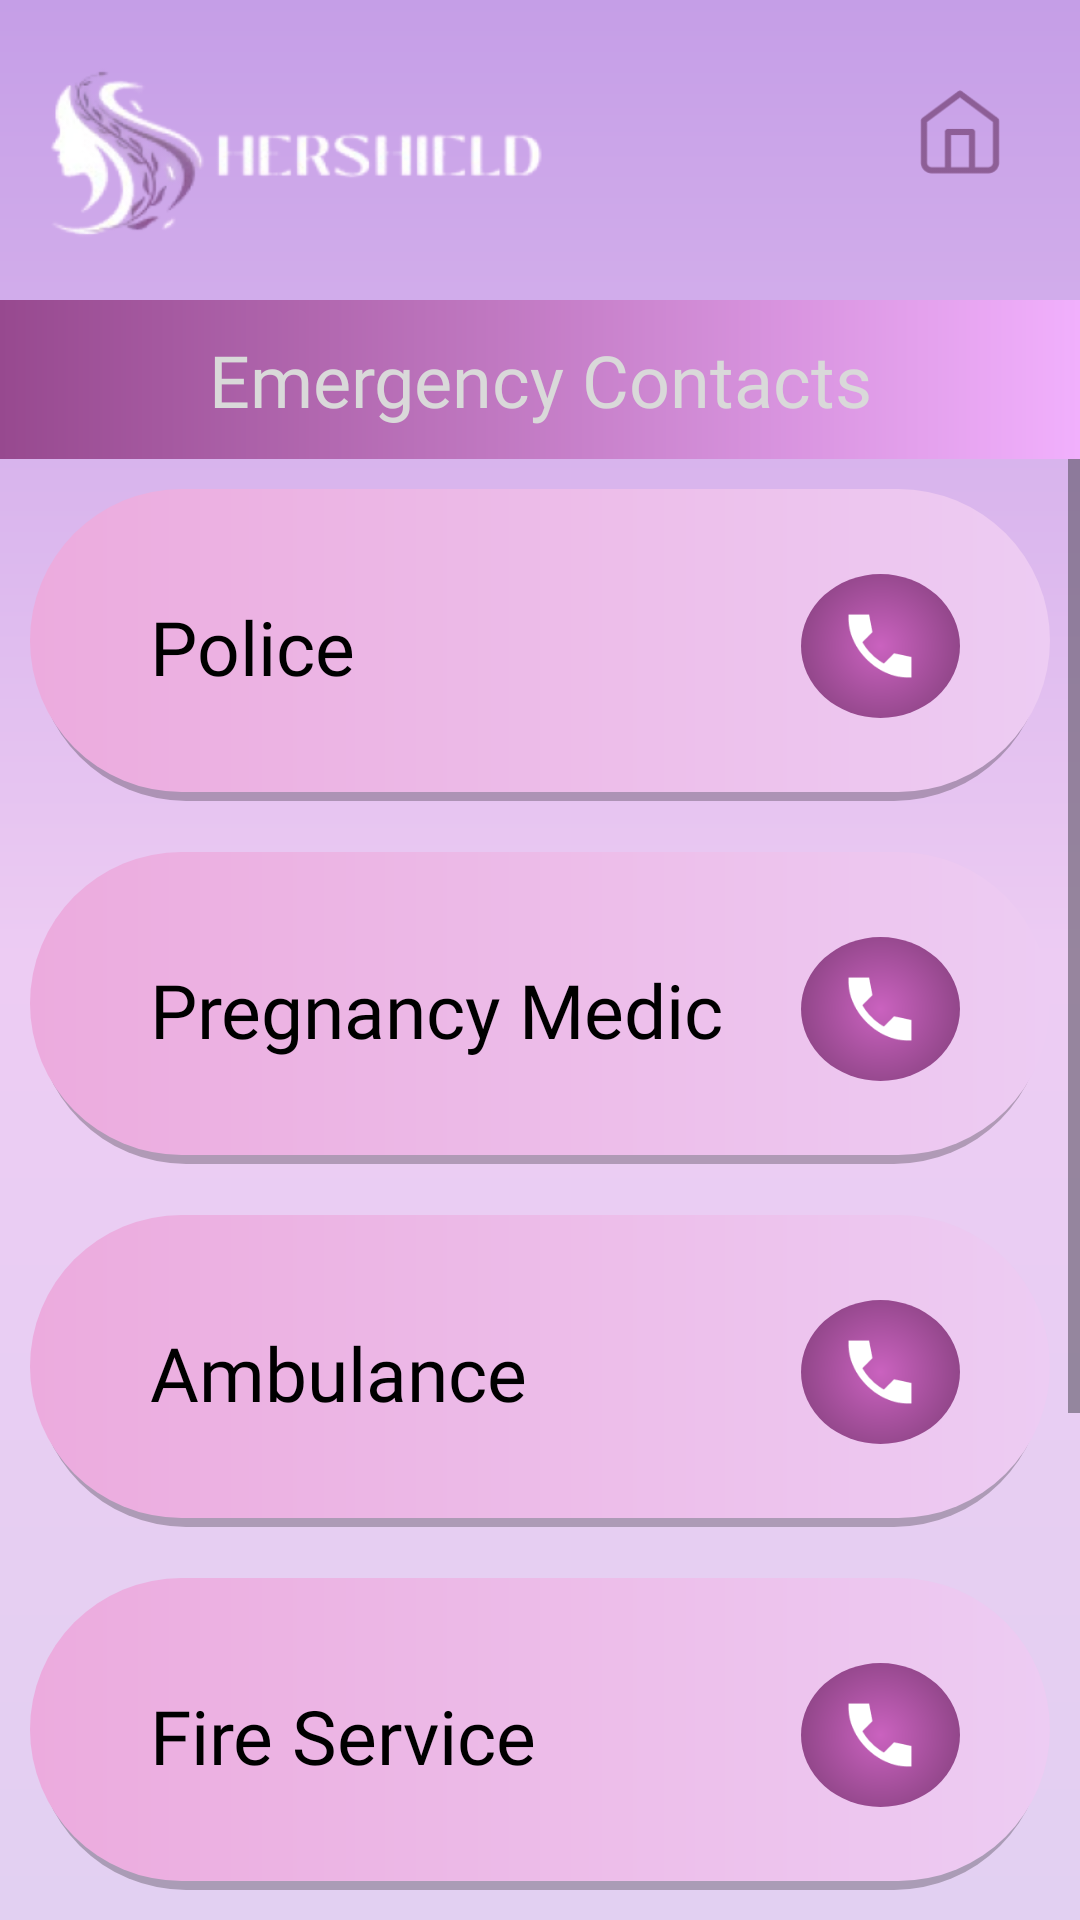

Icons on this 1080 × 1920 Android screen, each with the point to tap as [x,y]:
call: [880,646], [880,1009], [880,1372], [880,1735]
home: [960,132]
